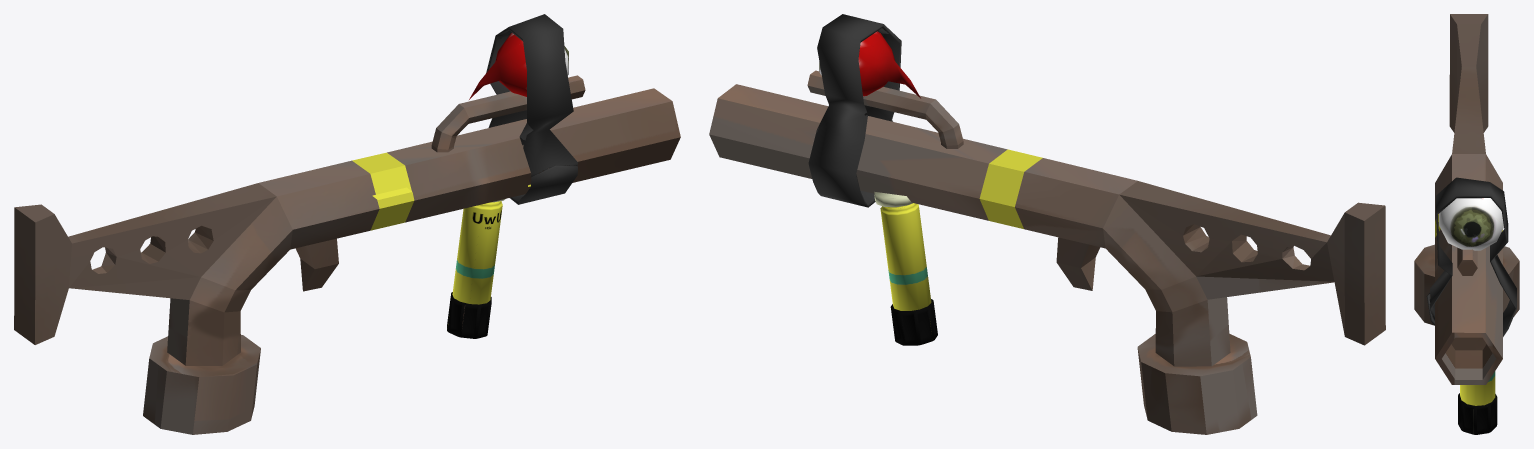
File: Rifle.fbx
3 renders of one model, left to right at view 1: azimuth 30°, elevation 25°; view 2: azimuth 150°, elevation 25°; view 3: azimuth 270°, elevation 25°, orthographic. The views are drawn at different scales.
Parts seen in each view (by area): view 1: Cylinder.005; view 2: Cylinder.005; view 3: Cylinder.005.
Part boxes in pixels (bbox=[...]): Cylinder.005: bbox=[14, 14, 680, 434]; Cylinder.005: bbox=[709, 14, 1385, 434]; Cylinder.005: bbox=[1414, 14, 1519, 434].
Bounding box in the file's own units: 6.51 × 2.92 × 1.01.
Materials: 1 (1 with a texture image).
